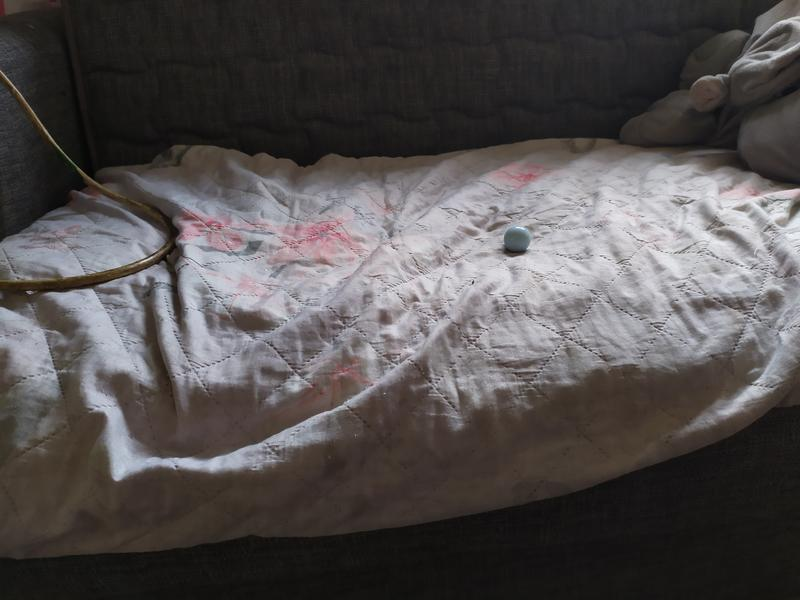Warning: (502, 225, 532, 254)
